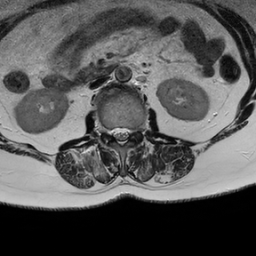CCS_normal: (118, 121, 125, 149)
LFS_stenosis: (132, 122, 138, 141)
LLS_normal: (125, 124, 131, 145)
RFS_stenosis: (105, 123, 112, 139)
RLS_normal: (112, 123, 118, 142)
